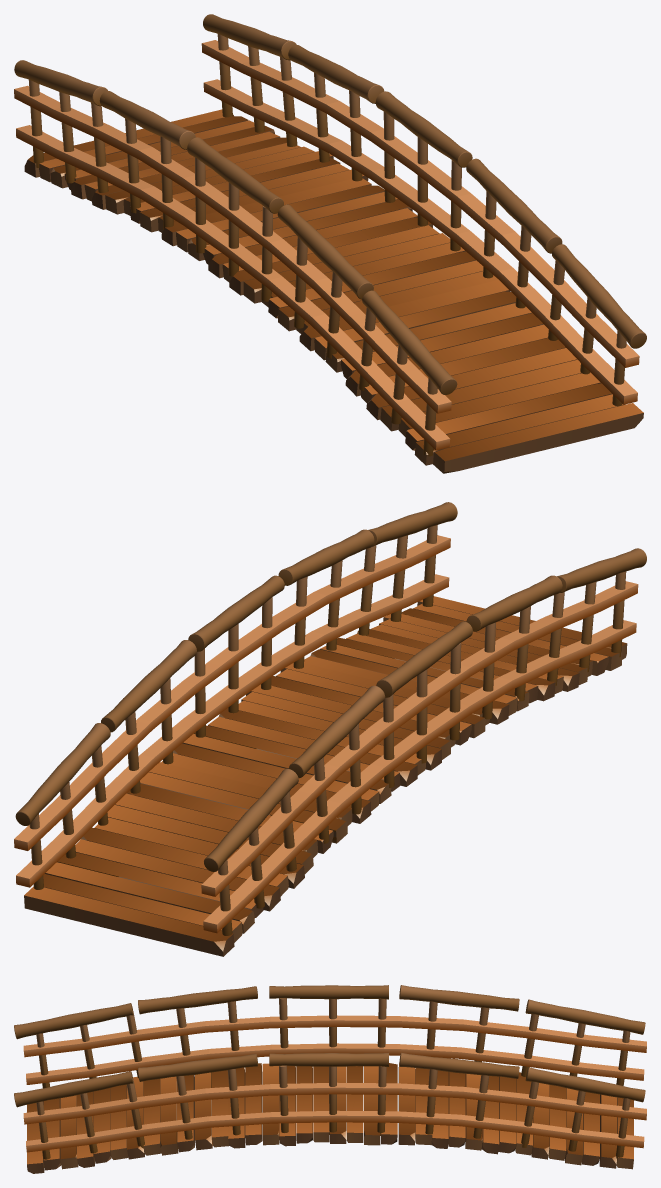
The model's file is SM_Holzbrücke.fbx.
3 renders of one model, top to bottom at view 1: azimuth 30°, elevation 25°; view 2: azimuth 150°, elevation 25°; view 3: azimuth 270°, elevation 25°, orthographic. The views are drawn at different scales.
Visible parts, largest first — view 1: Cube.002; view 2: Cube.002; view 3: Cube.002.
Part boxes in pixels (box(x1,y1,x2,y2)): Cube.002: box(14, 14, 646, 473); Cube.002: box(14, 502, 646, 956); Cube.002: box(14, 985, 646, 1173).
Size of the model in its own units: 387 by 276 by 1365.
